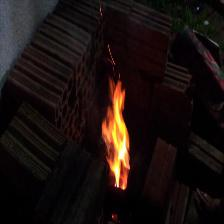fire: (95, 78, 139, 192)
